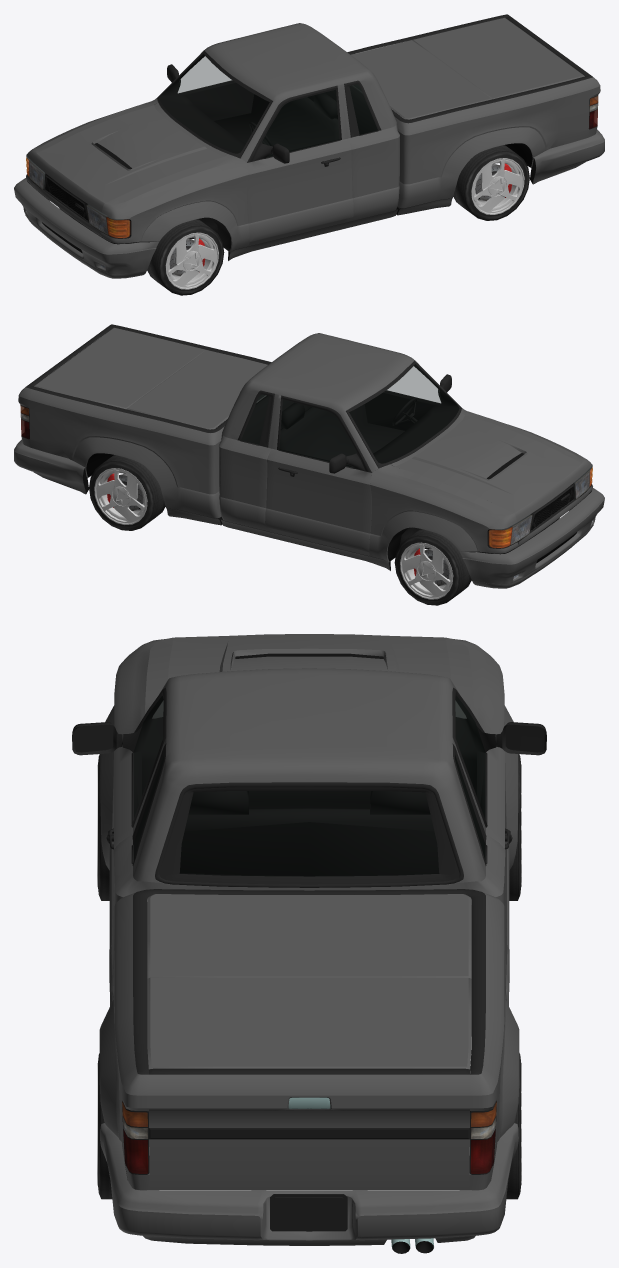
The model's file is krmlgtbdy.fbx.
The picture shows the model from 3 angles, top to bottom: view 1: azimuth 30°, elevation 25°; view 2: azimuth 150°, elevation 25°; view 3: azimuth 270°, elevation 25°; orthographic projection. The views are drawn at different scales.
Visible parts, largest first — view 1: body, trunk_cover, hood, interior, fender_left, bumper_front, glass, wheel_02, wheel_01, bumper_rear, sideskirts, grill (+4 smaller); view 2: body, trunk_cover, hood, interior, fender_right, bumper_front, glass, wheel_04, wheel_03, bumper_rear, sideskirts, grill (+4 smaller); view 3: body, trunk_cover, trunk_door, interior, bumper_rear, hood, glass, fender_left, fender_right, backlights, wheel_03, wheel_02 (+2 smaller).
Part boxes in pixels (x1,y1,x2,y2): body: [154, 14, 600, 246]; trunk_cover: [351, 17, 584, 119]; hood: [33, 105, 223, 212]; interior: [159, 54, 377, 157]; fender_left: [100, 154, 249, 252]; bumper_front: [14, 178, 158, 278]; glass: [177, 56, 377, 156]; wheel_02: [453, 145, 529, 220]; wheel_01: [147, 219, 224, 295]; bumper_rear: [530, 129, 604, 184]; sideskirts: [228, 198, 452, 260]; grill: [32, 173, 101, 236]; body: [18, 324, 464, 556]; trunk_cover: [34, 327, 267, 429]; hood: [395, 415, 585, 522]; interior: [241, 364, 459, 467]; fender_right: [369, 464, 518, 562]; bumper_front: [460, 488, 604, 588]; glass: [241, 366, 441, 466]; wheel_04: [394, 529, 471, 605]; wheel_03: [89, 455, 165, 530]; bumper_rear: [14, 439, 88, 494]; sideskirts: [166, 508, 390, 570]; grill: [517, 483, 586, 546]; body: [72, 668, 546, 1190]; trunk_cover: [147, 894, 471, 1069]; trunk_door: [149, 1068, 470, 1189]; interior: [133, 696, 485, 876]; bumper_rear: [100, 1123, 518, 1245]; hood: [168, 634, 450, 679]; glass: [134, 696, 484, 884]; fender_left: [100, 637, 172, 870]; fender_right: [446, 637, 518, 869]; backlights: [122, 1101, 496, 1174]; wheel_03: [506, 1053, 521, 1199]; wheel_02: [97, 1053, 112, 1199].
Size of the model in its own units: 191 by 57.75 by 76.28.
